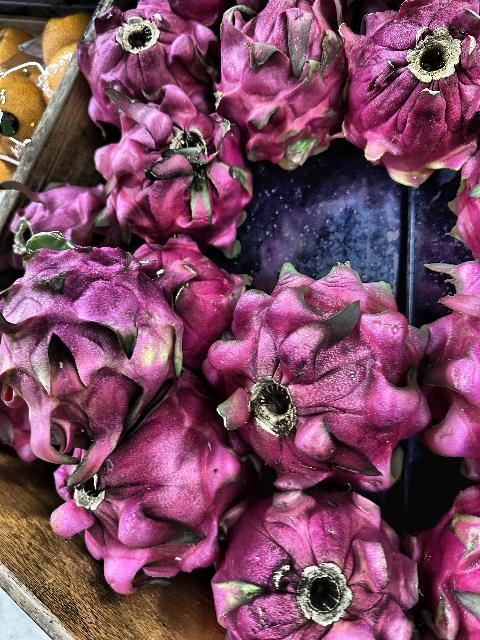buah-naga-matang: (208, 254, 420, 482), (0, 230, 180, 460), (40, 377, 236, 573), (212, 478, 416, 640), (93, 102, 261, 245), (338, 1, 476, 170), (211, 0, 342, 158), (71, 1, 201, 108), (420, 260, 480, 472), (406, 472, 480, 638), (136, 234, 255, 336), (0, 180, 112, 244)
